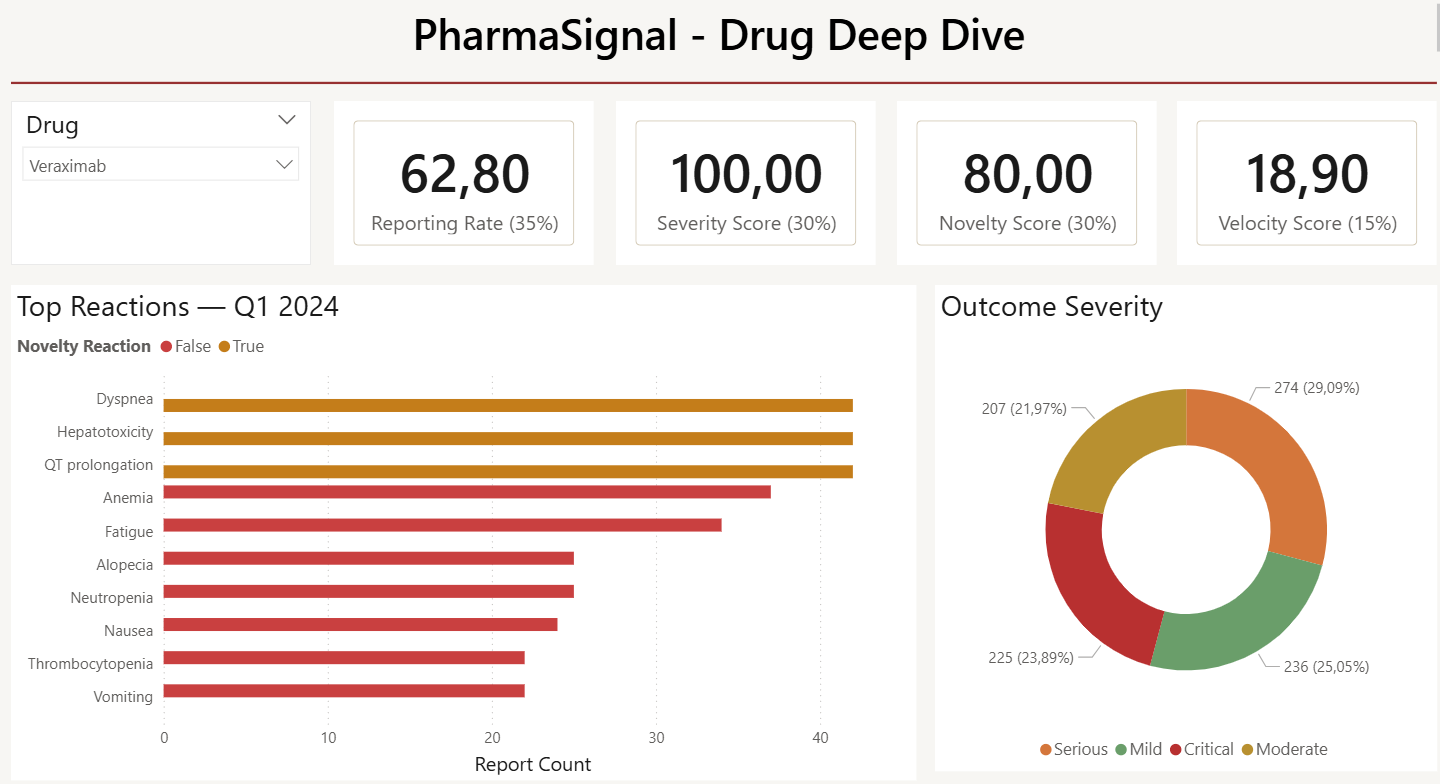

The page's visual inventory and layout, read from the dashboard file:
{"tool":"powerbi","page":{"name":"Deep Dive","canvas":[1280,720],"ordinal":1},"visuals":[{"type":"slicer","fields":{"Values":["risk_watchlist.drug_name"]},"box":[14.9,101,263.4,144],"z":0},{"type":"clusteredBarChart","title":"Top Reactions — Q1 2024","fields":{"Category":["ae_breakdown.reaction"],"Y":["Sum(ae_breakdown.report_count)"],"Series":["ae_breakdown.is_novel_reaction"]},"box":[14.8,262.5,795.4,435.2],"z":1000},{"type":"donutChart","title":"Outcome Severity ","fields":{"Category":["ae_breakdown.severity_bucket"],"Y":["Sum(ae_breakdown.report_count)"]},"box":[826,262.5,441.1,427.3],"z":2000},{"type":"cardVisual","fields":{"Data":["Avg(risk_watchlist.score_rr)"]},"box":[298.5,101,228.3,144],"z":3000},{"type":"cardVisual","fields":{"Data":["Avg(risk_watchlist.score_sv)"]},"box":[546.1,101,228.3,144],"z":4000},{"type":"cardVisual","fields":{"Data":["Avg(risk_watchlist.score_nv)"]},"box":[792.9,101,228.3,144],"z":5000},{"type":"cardVisual","fields":{"Data":["Avg(risk_watchlist.score_vl)"]},"box":[1038.7,101,228.3,144],"z":6000},{"type":"textbox","box":[0,10.5,1280.2,64.1],"z":7000},{"type":"shape","box":[14.8,81.9,1252.4,6.9],"z":8000}]}

Visuals, with their boxes on the page's 1280x720 design canvas (x1, y1, x2, y2). These are canvas units, not pixel positions in the 1440x784 screenshot, which may show the page scaled, cropped or inside an application window:
slicer - risk_watchlist.drug_name: 15,101,278,245
"Top Reactions — Q1 2024" clusteredBarChart: 15,262,810,698
"Outcome Severity " donutChart: 826,262,1267,690
cardVisual - Avg(risk_watchlist.score_rr): 298,101,527,245
cardVisual - Avg(risk_watchlist.score_sv): 546,101,774,245
cardVisual - Avg(risk_watchlist.score_nv): 793,101,1021,245
cardVisual - Avg(risk_watchlist.score_vl): 1039,101,1267,245
textbox: 0,10,1280,75
shape: 15,82,1267,89
